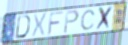C: (80, 9, 96, 32)
D: (14, 15, 31, 40)
F: (47, 11, 65, 37)
P: (63, 9, 80, 35)
X: (95, 5, 114, 32), (31, 12, 49, 39)
